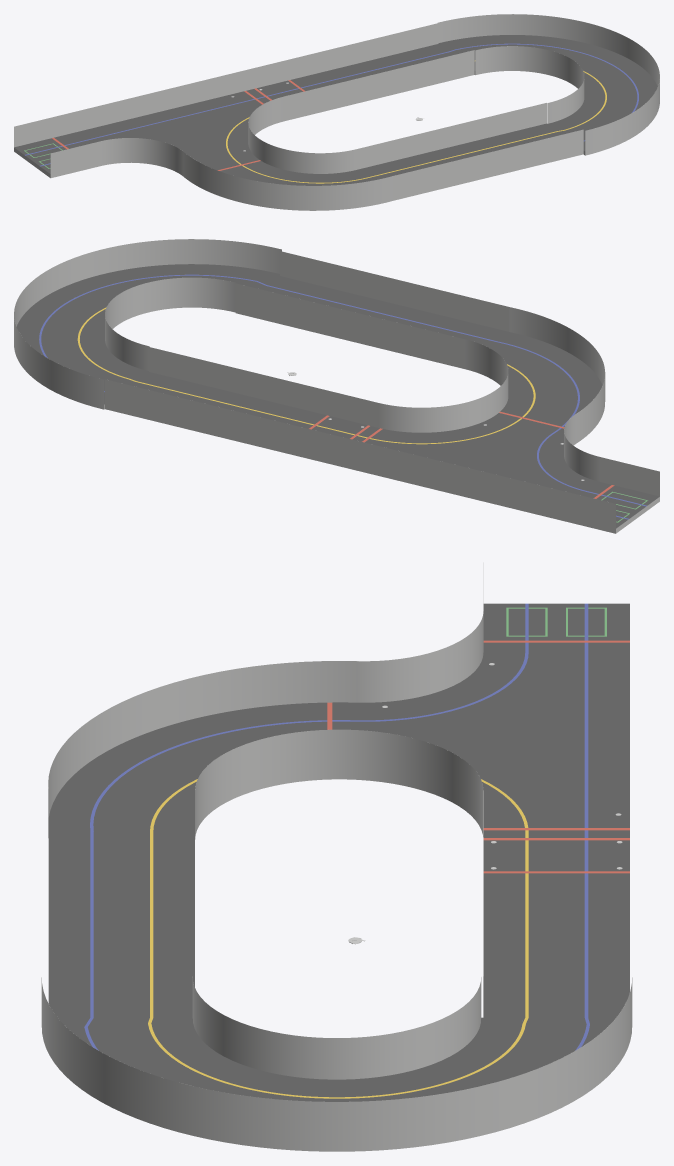
The model's file is Long_oval.dae.
3 views of the same model, one above another, from view 1: azimuth 30°, elevation 25°; view 2: azimuth 150°, elevation 25°; view 3: azimuth 270°, elevation 25° (orthographic). The views are drawn at different scales.
Parts seen in each view (by area): view 1: Long Oval; view 2: Long Oval; view 3: Long Oval.
Part boxes in pixels (x1,y1,x2,y2): Long Oval: [14, 14, 659, 210]; Long Oval: [14, 239, 659, 533]; Long Oval: [41, 562, 632, 1151].
Size of the model in its own units: 7.09 by 3.28 by 0.3048.
